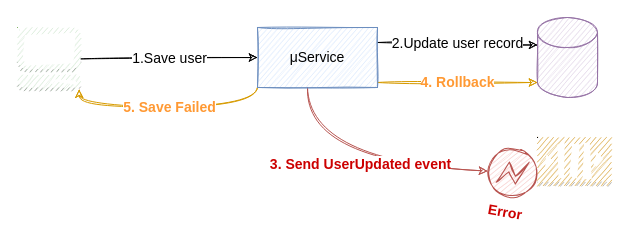
Image size: 642x241. Some labels were removed from this diagram. The shapes that lost their labels are listed below. From the top down, each one's centre as x and y in pixels, then its label:
At pixel 567 57: "DB".
At pixel 573 161: "Message Broker".
